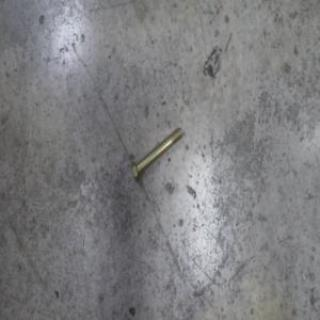Bolttrack_idkeyframe: (129, 124, 182, 185)
